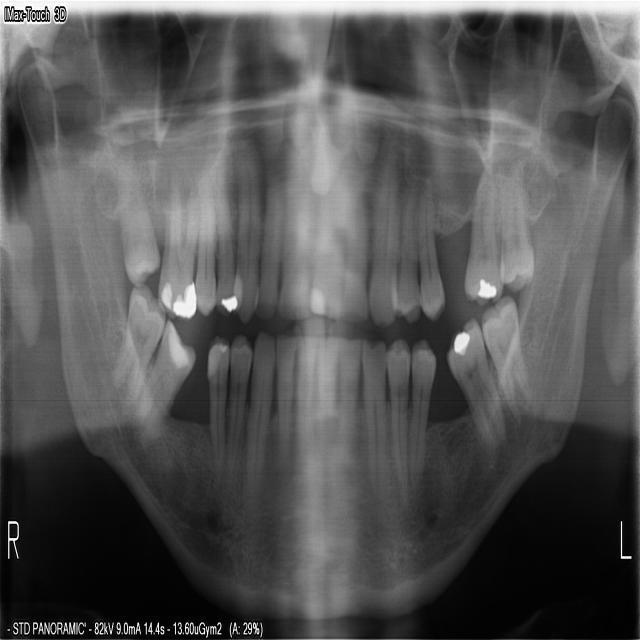LCD: (338, 330, 361, 468)
LCU: (367, 182, 400, 327)
LID: (314, 330, 339, 464), (294, 333, 316, 452)
LIU: (307, 181, 341, 319), (338, 182, 369, 325)
LMD: (441, 312, 511, 459), (476, 292, 534, 432), (406, 335, 436, 477)
LMU: (461, 170, 504, 304), (496, 173, 534, 292)
LPMD: (385, 334, 410, 509), (359, 332, 386, 485)
LPMU: (418, 186, 447, 323), (395, 178, 420, 324)
RCD: (225, 332, 250, 478)
RCU: (231, 160, 259, 330)
RID: (239, 331, 276, 485), (274, 330, 297, 457)
RIU: (277, 173, 313, 317), (255, 166, 284, 322)
RMD: (148, 314, 196, 414), (122, 278, 164, 377)
RMU: (154, 175, 198, 320), (110, 180, 161, 289)
RPMD: (204, 335, 228, 469)
RPMU: (214, 169, 241, 322), (194, 173, 217, 318)
